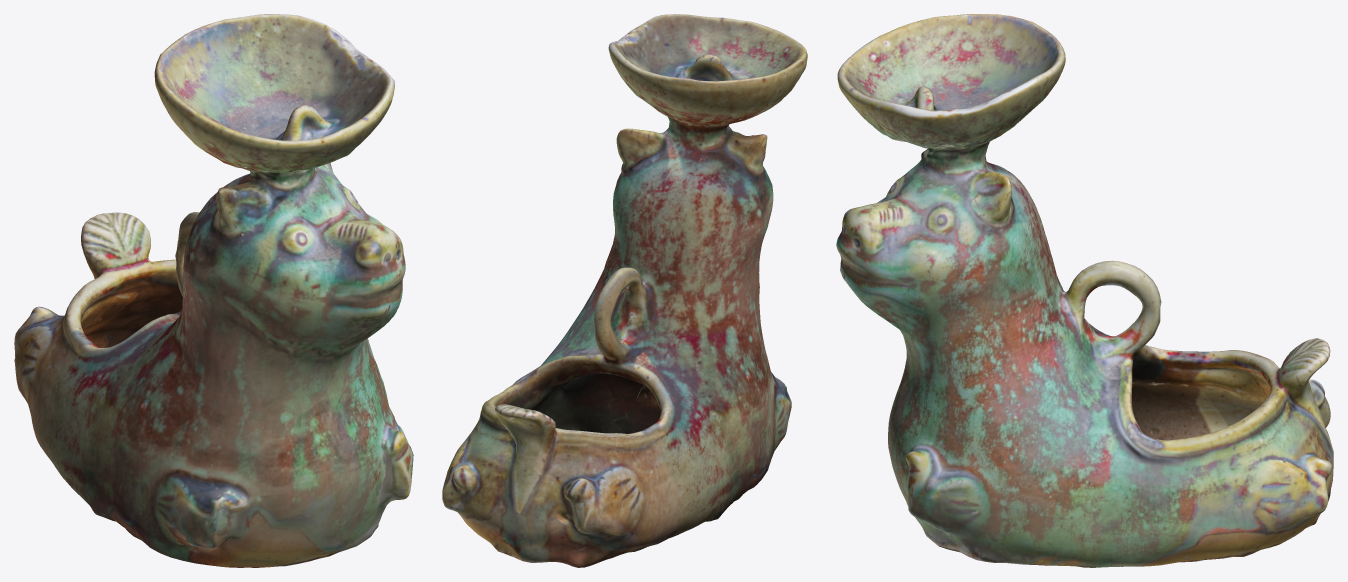
File: glb-32.glb
The picture shows the model from 3 angles, left to right: view 1: azimuth 30°, elevation 25°; view 2: azimuth 150°, elevation 25°; view 3: azimuth 270°, elevation 25°; orthographic projection. The views are drawn at different scales.
Visible parts, largest first — view 1: Retopo_mesh.002_0; view 2: Retopo_mesh.002_0; view 3: Retopo_mesh.002_0.
Part boxes in pixels (box(x1,y1,x2,y2)): Retopo_mesh.002_0: box(14, 14, 413, 567); Retopo_mesh.002_0: box(442, 14, 807, 567); Retopo_mesh.002_0: box(836, 14, 1333, 567).
Size of the model in its own units: 1.81 by 3.25 by 3.2.
Materials: 1 (1 with a texture image).
